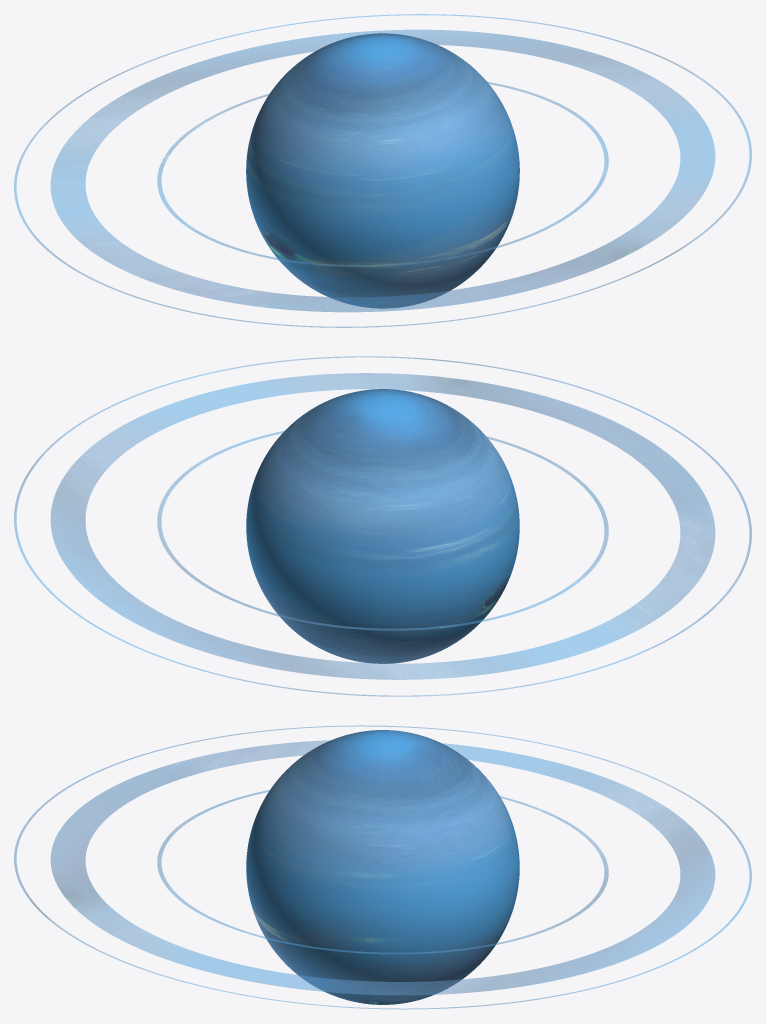
File: neptune.obj
The picture shows the model from 3 angles, top to bottom: view 1: azimuth 30°, elevation 25°; view 2: azimuth 150°, elevation 25°; view 3: azimuth 270°, elevation 25°; orthographic projection.
Parts seen in each view (by area): view 1: 13908_Neptune_V2_l3_13908_Neptune_V2_l3_13908_Neptune_planet, 13908_Neptune_V2_l3_13908_Neptune_V2_l3_13908_Neptune_ring; view 2: 13908_Neptune_V2_l3_13908_Neptune_V2_l3_13908_Neptune_planet, 13908_Neptune_V2_l3_13908_Neptune_V2_l3_13908_Neptune_ring; view 3: 13908_Neptune_V2_l3_13908_Neptune_V2_l3_13908_Neptune_planet, 13908_Neptune_V2_l3_13908_Neptune_V2_l3_13908_Neptune_ring.
Part boxes in pixels (<box>): 13908_Neptune_V2_l3_13908_Neptune_V2_l3_13908_Neptune_planet: <box>246,33,519,308</box>; 13908_Neptune_V2_l3_13908_Neptune_V2_l3_13908_Neptune_ring: <box>14,14,751,327</box>; 13908_Neptune_V2_l3_13908_Neptune_V2_l3_13908_Neptune_planet: <box>246,389,519,663</box>; 13908_Neptune_V2_l3_13908_Neptune_V2_l3_13908_Neptune_ring: <box>14,356,751,696</box>; 13908_Neptune_V2_l3_13908_Neptune_V2_l3_13908_Neptune_planet: <box>246,730,519,1004</box>; 13908_Neptune_V2_l3_13908_Neptune_V2_l3_13908_Neptune_ring: <box>14,725,751,1009</box>.
Size of the model in its own units: 979 by 367 by 980.
Materials: 2 (2 with a texture image).
